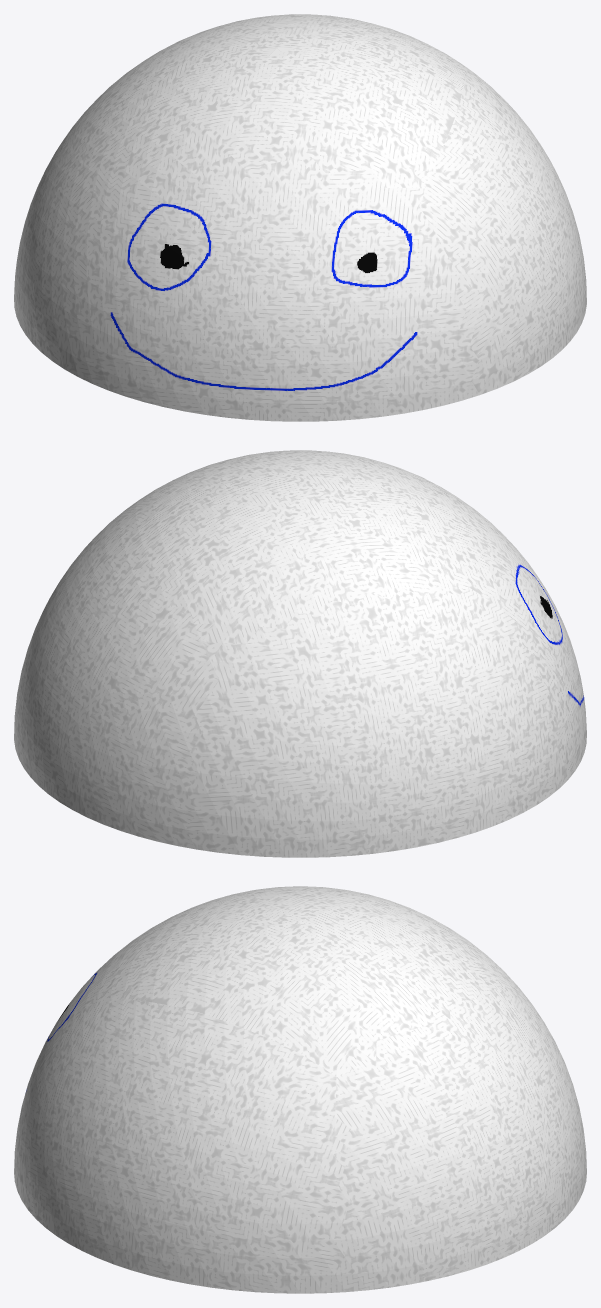
Rendered from head.dae.
3 views of the same model, one above another, from view 1: azimuth 30°, elevation 25°; view 2: azimuth 150°, elevation 25°; view 3: azimuth 270°, elevation 25° (orthographic).
Parts seen in each view (by area): view 1: Icosphere; view 2: Icosphere; view 3: Icosphere.
Boxes of the visible parts, left/top/right/bottom form: Icosphere: left=14, top=14, right=586, bottom=421; Icosphere: left=14, top=450, right=586, bottom=857; Icosphere: left=14, top=886, right=586, bottom=1293.
Bounding box in the file's own units: 2 × 2 × 1.
Materials: 1 (1 with a texture image).
